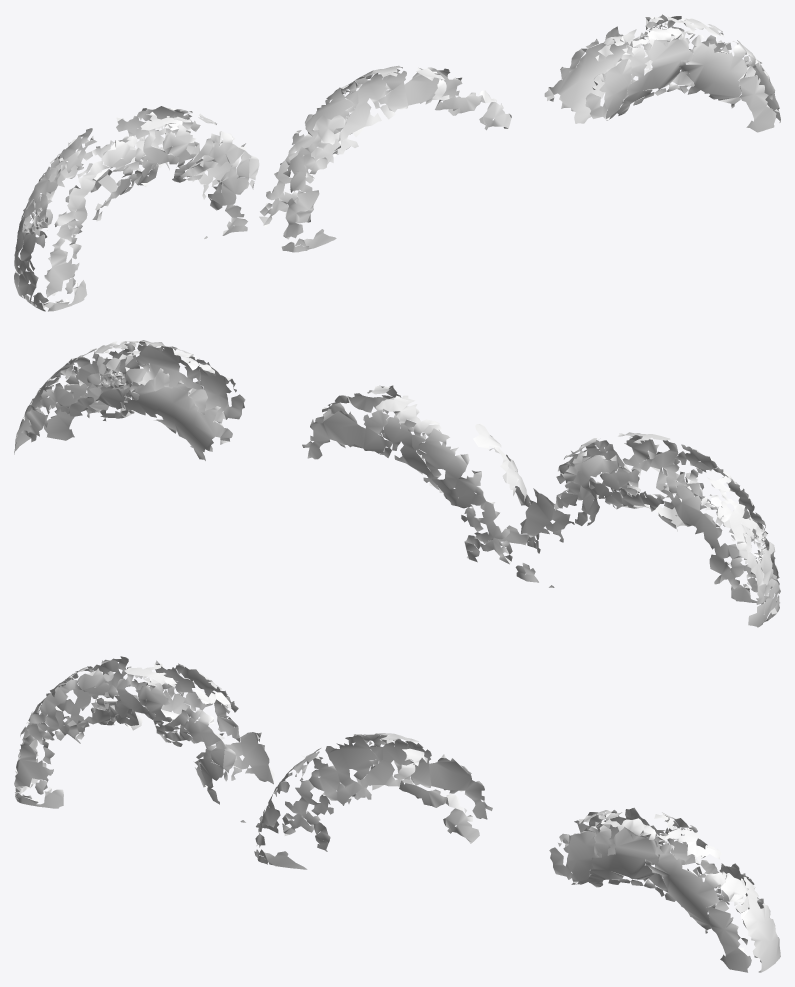
The picture shows the model from 3 angles, top to bottom: view 1: azimuth 30°, elevation 25°; view 2: azimuth 150°, elevation 25°; view 3: azimuth 330°, elevation 25°; orthographic projection.
Size of the model in its own units: 1.95 by 0.38 by 0.1815.
Materials: 1 (1 with a texture image).
